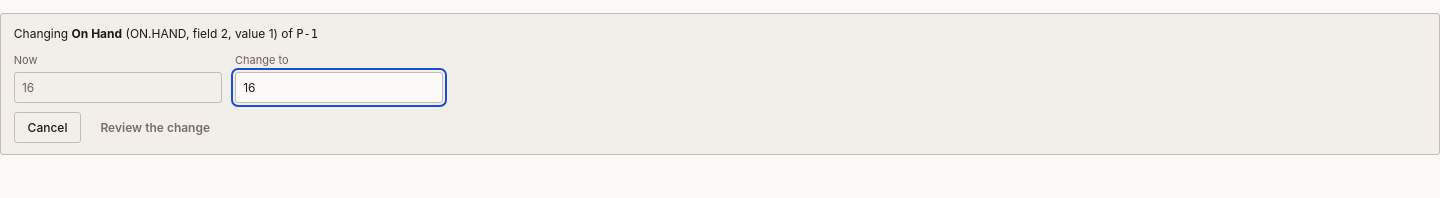
Test case: changing a value › confirms before writing, naming the record and the position
Expected: the button "Review the change" is shown, [88,112,223,143]
Replace the text in the field labelled "Change to" with "20" at {"x": 339, "y": 87}, box [235,72,443,103]
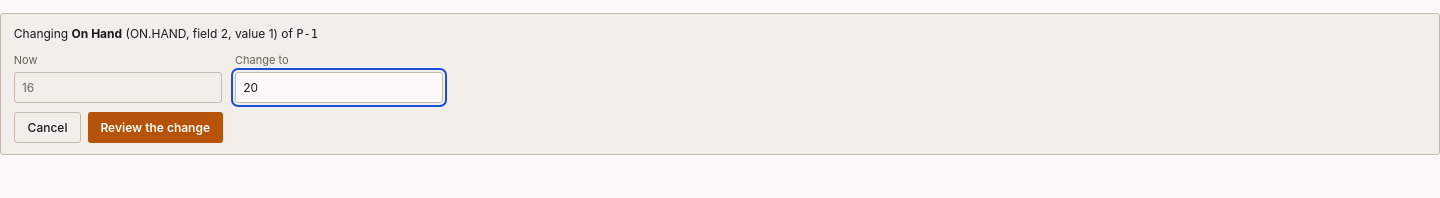
Click the button "Review the change" at {"x": 155, "y": 128}, box [88,112,223,143]
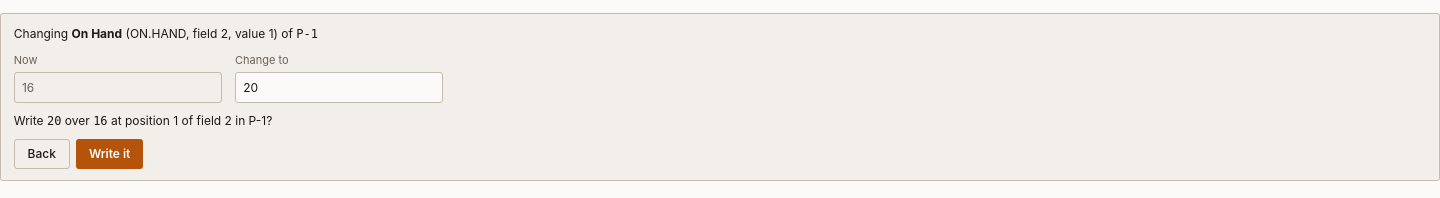
Result: the text "Write 20 over 16 at position 1 of field 2 in P-1?" is shown at [14,113,272,128]
